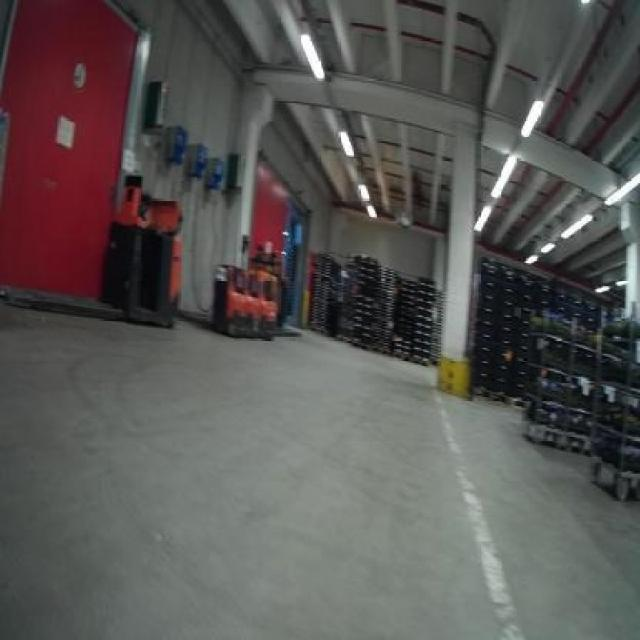floor: (0, 301, 637, 637)
pallets: (308, 252, 437, 362), (212, 265, 275, 335)
